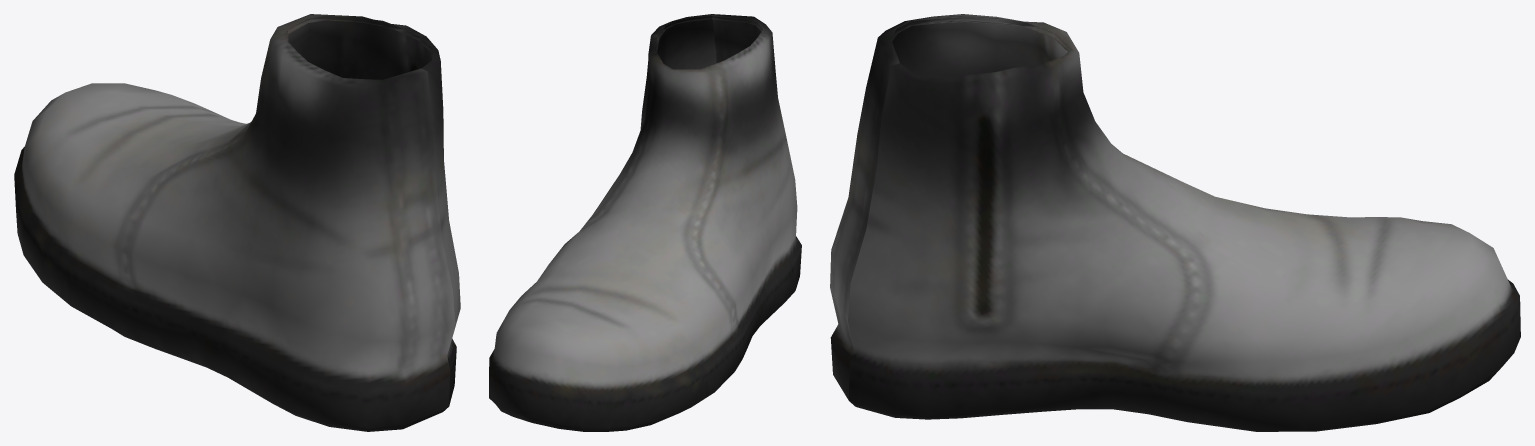
The model's file is Stormtrooper_BootL.fbx.
3 views of the same model, side by side, from view 1: azimuth 30°, elevation 25°; view 2: azimuth 150°, elevation 25°; view 3: azimuth 270°, elevation 25° (orthographic). The views are drawn at different scales.
Parts seen in each view (by area): view 1: BootL; view 2: BootL; view 3: BootL.
Part boxes in pixels (<box>): BootL: <box>14,14,460,431</box>; BootL: <box>489,14,801,431</box>; BootL: <box>830,14,1520,431</box>.
Bounding box in the file's own units: 0.1564 × 0.208 × 0.3715.
